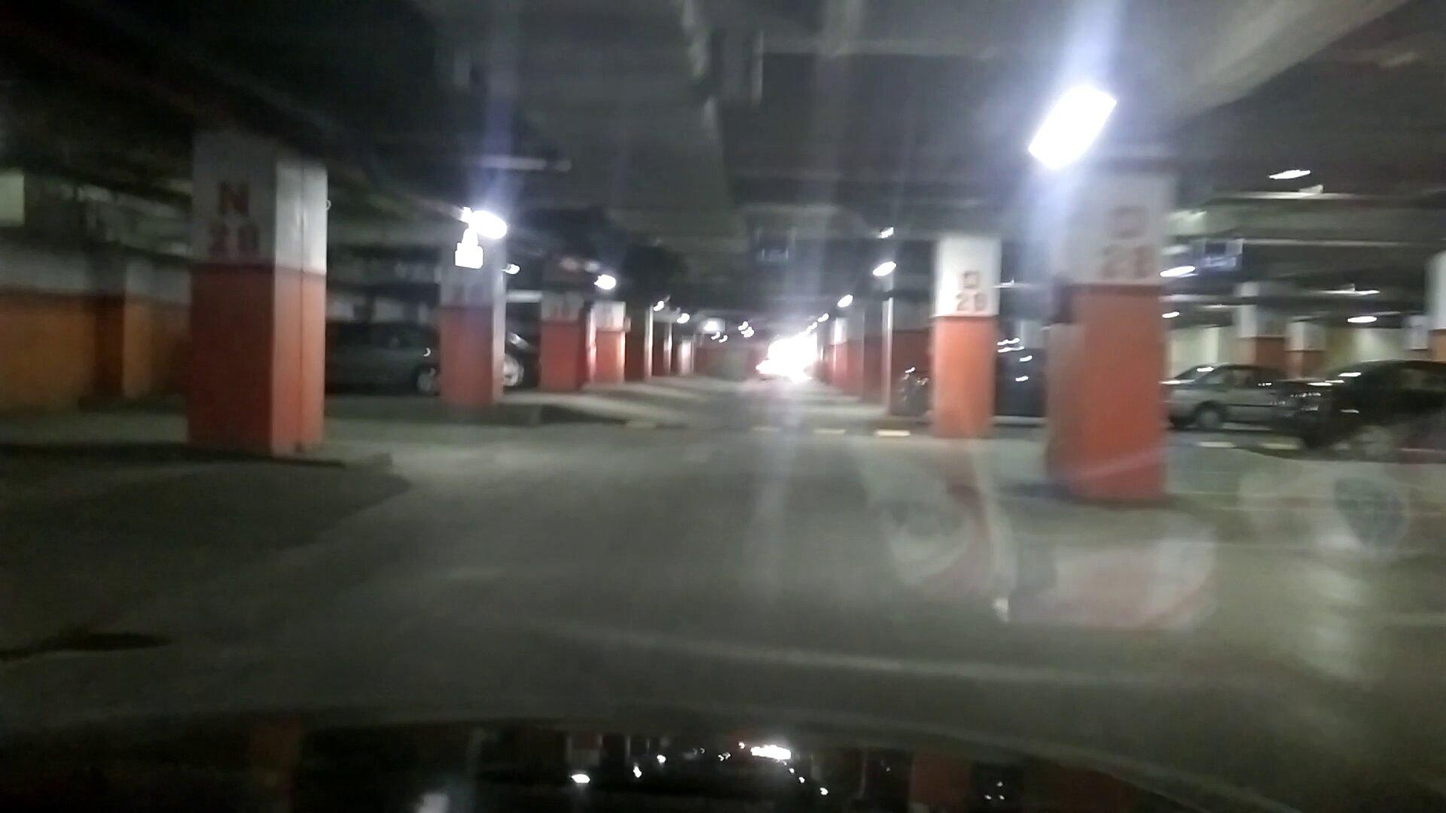Bump: (585, 412, 913, 437)
